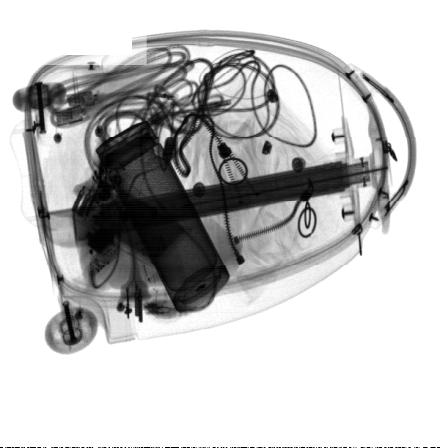Powerbank: (69, 160, 195, 269)
